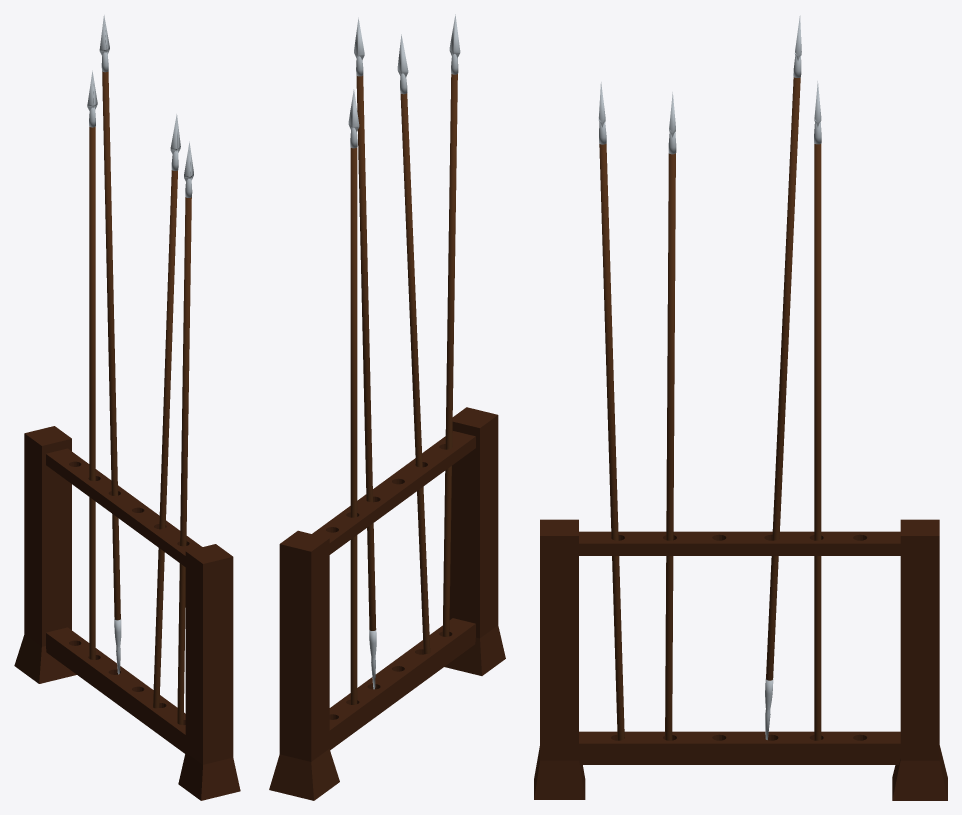
Rendered from Speer Ständer Ver 4.fbx.
3 views of the same model, side by side, from view 1: azimuth 30°, elevation 25°; view 2: azimuth 150°, elevation 25°; view 3: azimuth 270°, elevation 25° (orthographic). The views are drawn at different scales.
Parts seen in each view (by area): view 1: Speer Ständer Ver 4; view 2: Speer Ständer Ver 4; view 3: Speer Ständer Ver 4.
Part boxes in pixels (x1=…): Speer Ständer Ver 4: x1=14, y1=15, x2=240, y2=800; Speer Ständer Ver 4: x1=269, y1=14, x2=505, y2=800; Speer Ständer Ver 4: x1=534, y1=15, x2=947, y2=800.
Bounding box in the file's own units: 17 × 260 × 126.
